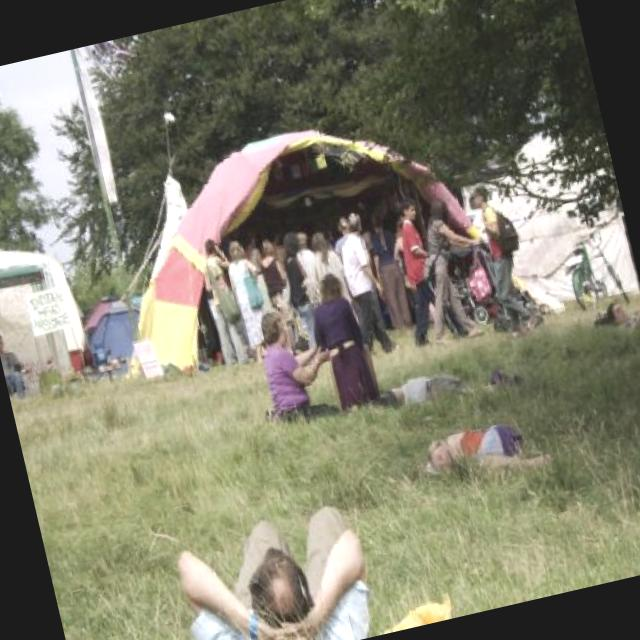Person: (171, 500, 380, 640), (396, 188, 504, 342), (300, 262, 396, 416), (418, 408, 560, 507), (466, 172, 546, 338), (250, 298, 341, 434), (385, 196, 463, 346), (330, 212, 403, 358), (195, 236, 249, 370), (361, 208, 414, 334), (274, 232, 326, 353), (220, 237, 272, 353), (250, 236, 300, 340), (300, 225, 348, 287), (0, 332, 37, 411), (392, 234, 420, 314), (288, 230, 320, 280), (328, 211, 352, 252)
